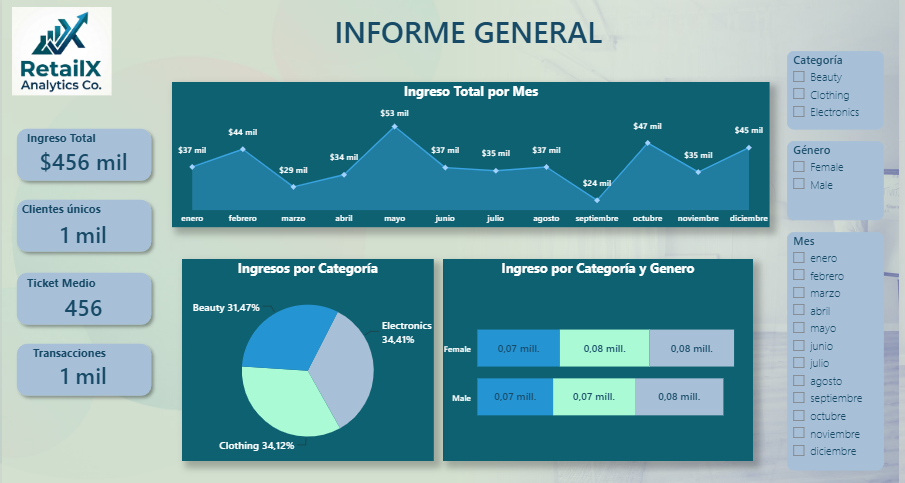

This screenshot's page, from the dashboard's own definition file:
{"tool":"powerbi","page":{"name":"Resumen ejecutivo","canvas":[1280,720],"ordinal":0},"visuals":[{"type":"shape","box":[11.1,378.7,210.9,93.3],"z":0},{"type":"shape","box":[11.1,275.6,210.9,93.3],"z":1000},{"type":"shape","box":[11.1,480.8,210.9,93.3],"z":2000},{"type":"shape","box":[11.1,173.7,210.9,93.3],"z":3000},{"type":"image","box":[13.9,9.7,141.8,126.5],"z":4000},{"type":"cardVisual","fields":{"Data":["Cálculos.Ingreso Total"]},"box":[22.6,199.5,188,57.4],"z":5000},{"type":"cardVisual","fields":{"Data":["Cálculos.Clientes Unicos"]},"box":[22.6,301.4,188,60.3],"z":6000},{"type":"cardVisual","fields":{"Data":["Cálculos.Ticket Promedio"]},"box":[22.6,407.6,188,57.4],"z":7000},{"type":"cardVisual","fields":{"Data":["Cálculos.Total Transacciones"]},"box":[22.6,505.2,188,57.4],"z":8000},{"type":"barChart","title":"Ingreso por Categoría y Genero","fields":{"Y":["Cálculos.Ingreso por Categoria"],"Category":["retail_sales.gender"],"Series":["retail_sales.product_category"]},"box":[628.5,368.8,442,288.4],"z":9000},{"type":"lineChart","fields":{"Category":["retail_sales.date.Variación.Jerarquía de fechas.Mes"],"Y":["Cálculos.Ingreso Total"]},"box":[242.5,116.2,852.4,206.6],"z":10000},{"type":"donutChart","title":"Ingresos por Categoría","fields":{"Category":["retail_sales.product_category"],"Y":["Cálculos.Ingreso por Categoria"]},"box":[256.9,368.8,358.7,288.4],"z":11000},{"type":"slicer","fields":{"Values":["retail_sales.date.Variación.Jerarquía de fechas.Mes"]},"box":[1119.3,331.5,137.8,340.1],"z":12000},{"type":"slicer","fields":{"Values":["retail_sales.gender"]},"box":[1119.3,200.9,137.8,113.4],"z":13000},{"type":"slicer","fields":{"Values":["retail_sales.product_category"]},"box":[1119.3,73.2,137.8,111.9],"z":14000},{"type":"textbox","box":[11.1,180.9,146.4,40.2],"z":15000},{"type":"textbox","box":[11.1,282.8,146.4,40.2],"z":16000},{"type":"textbox","box":[11.1,387.5,146.4,40.2],"z":17000},{"type":"textbox","box":[22.6,488,146.4,40.2],"z":18000},{"type":"textbox","box":[413.3,10,502.2,73.2],"z":19000}]}

Visuals, with their boxes on the page's 1280x720 design canvas (x1, y1, x2, y2). These are canvas units, not pixel positions in the 905x483 screenshot, which may show the page scaled, cropped or inside an application window:
shape: (11,379,222,472)
shape: (11,276,222,369)
shape: (11,481,222,574)
shape: (11,174,222,267)
image: (14,10,156,136)
cardVisual - Cálculos.Ingreso Total: (23,200,211,257)
cardVisual - Cálculos.Clientes Unicos: (23,301,211,362)
cardVisual - Cálculos.Ticket Promedio: (23,408,211,465)
cardVisual - Cálculos.Total Transacciones: (23,505,211,563)
"Ingreso por Categoría y Genero" barChart: (628,369,1070,657)
lineChart - retail_sales.date.Variación.Jerarquía de fechas.Mes x Cálculos.Ingreso Total: (242,116,1095,323)
"Ingresos por Categoría" donutChart: (257,369,616,657)
slicer - retail_sales.date.Variación.Jerarquía de fechas.Mes: (1119,332,1257,672)
slicer - retail_sales.gender: (1119,201,1257,314)
slicer - retail_sales.product_category: (1119,73,1257,185)
textbox: (11,181,158,221)
textbox: (11,283,158,323)
textbox: (11,388,158,428)
textbox: (23,488,169,528)
textbox: (413,10,916,83)
